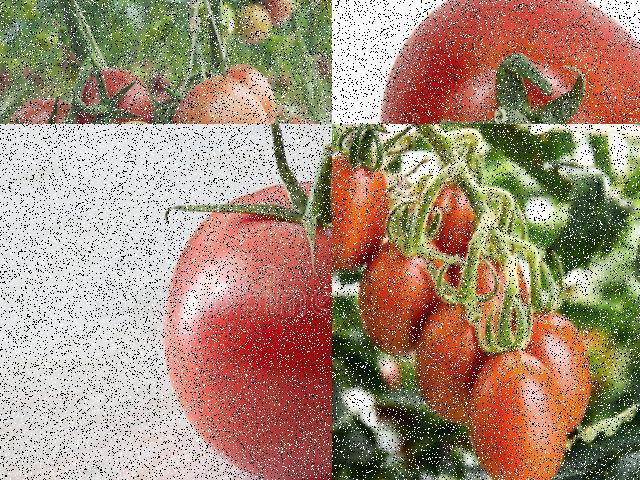tomato: (158, 157, 331, 479), (369, 0, 639, 123), (463, 352, 577, 479), (519, 312, 596, 438), (372, 230, 436, 371), (428, 292, 491, 432), (332, 145, 395, 281), (474, 241, 532, 347), (70, 65, 151, 123), (173, 77, 270, 123), (425, 174, 470, 264), (0, 99, 78, 123), (267, 0, 293, 18)
